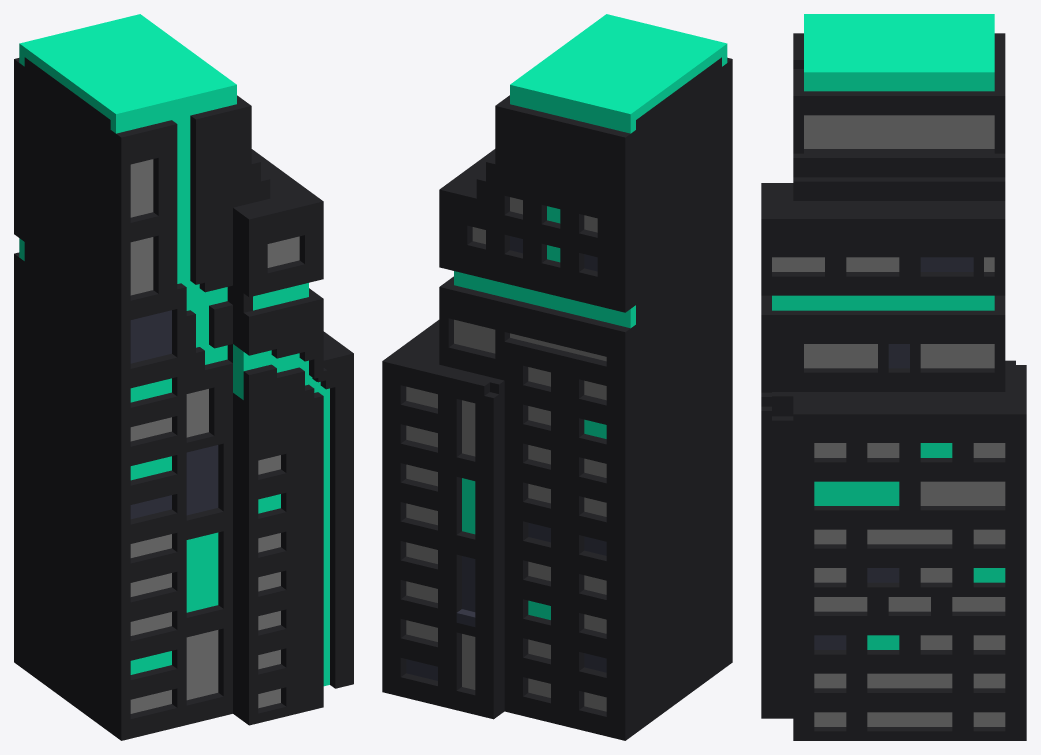
File: LandMark_003.obj
The picture shows the model from 3 angles, left to right: view 1: azimuth 30°, elevation 25°; view 2: azimuth 150°, elevation 25°; view 3: azimuth 270°, elevation 25°; orthographic projection.
Bounding box in the file's own units: 2.5 × 6.4 × 2.5.
1 material, 1 textured.
